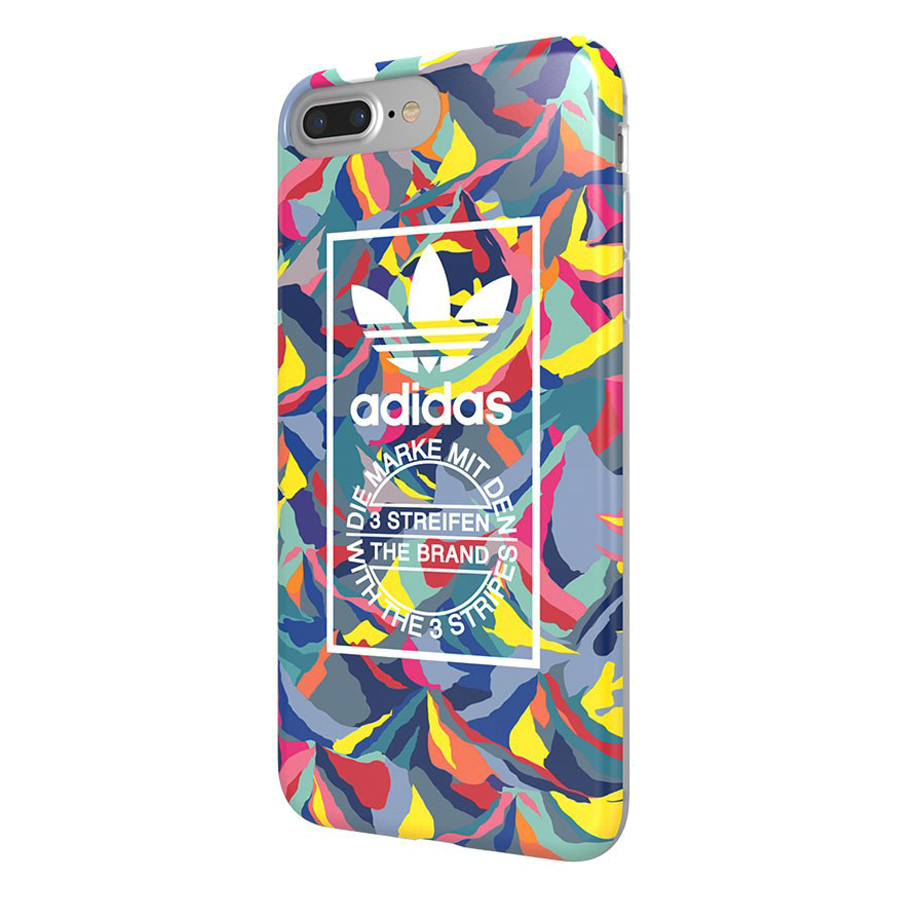Adidas: (337, 244, 528, 432), (435, 238, 438, 241)
